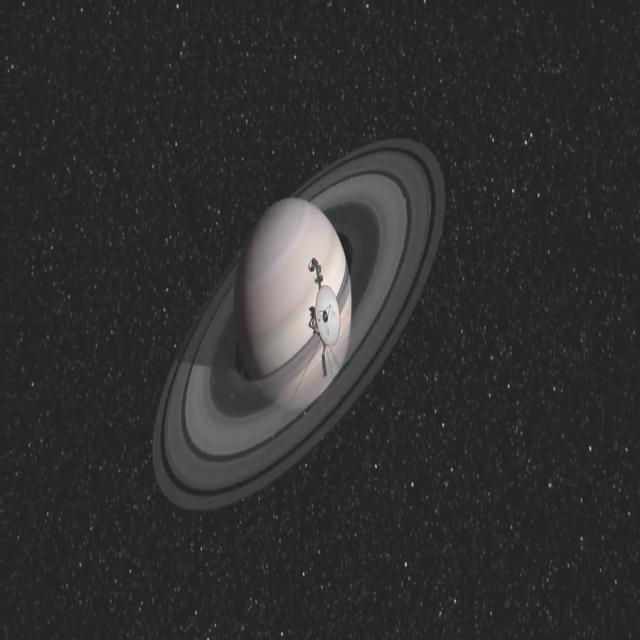medium_debris: (285, 243, 348, 410)
